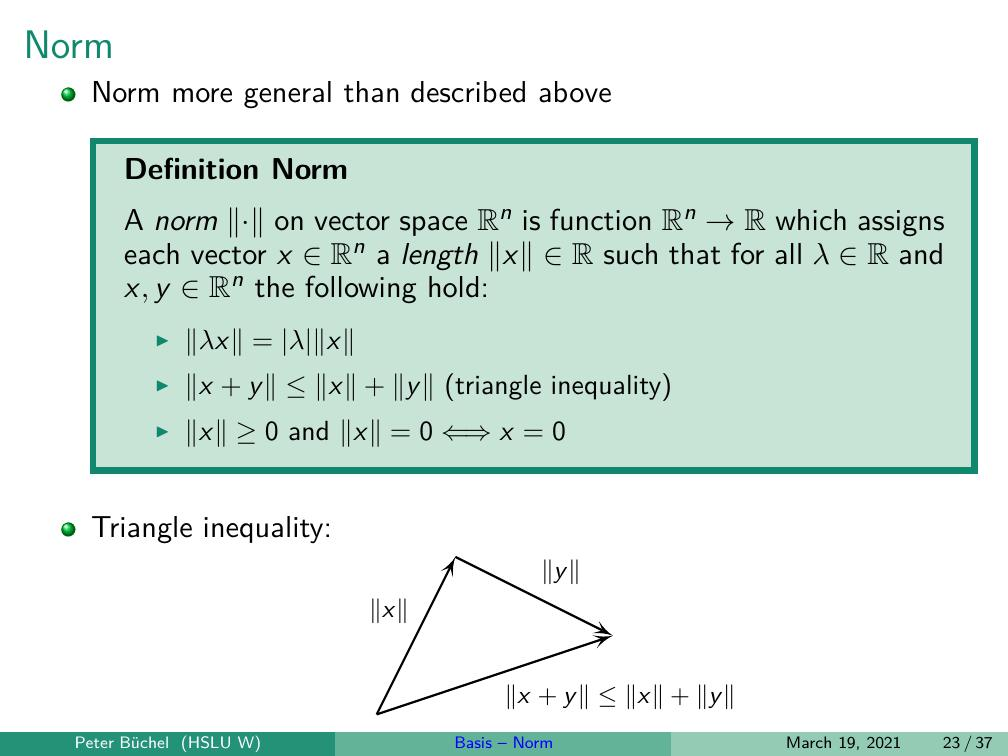Title: (15, 21, 118, 73)
